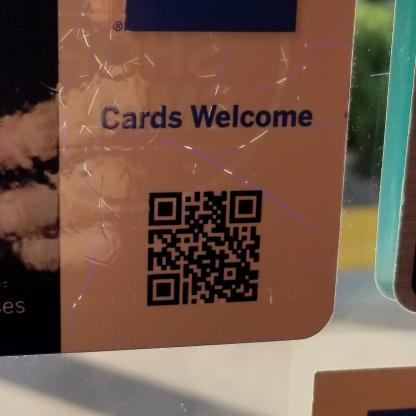qr: (143, 186, 269, 307)
